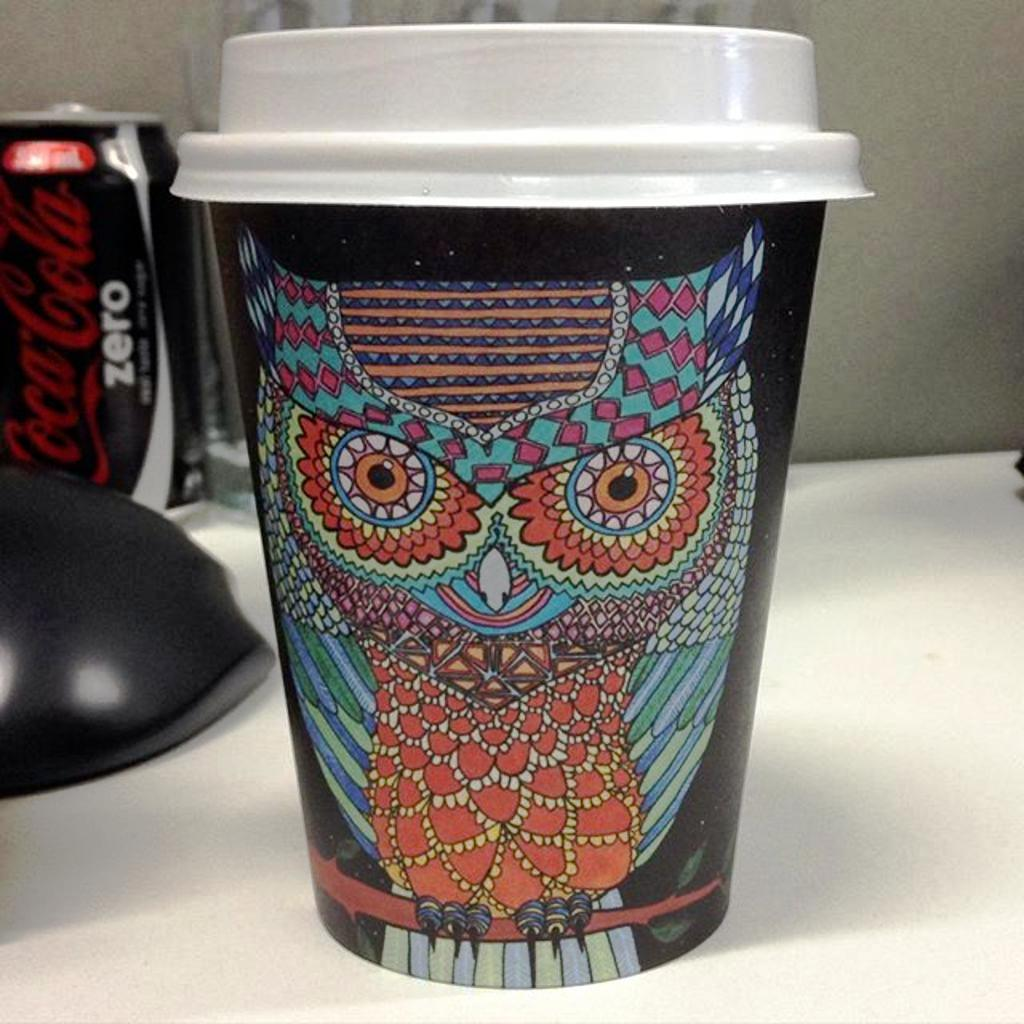Owl: (235, 216, 765, 989)
